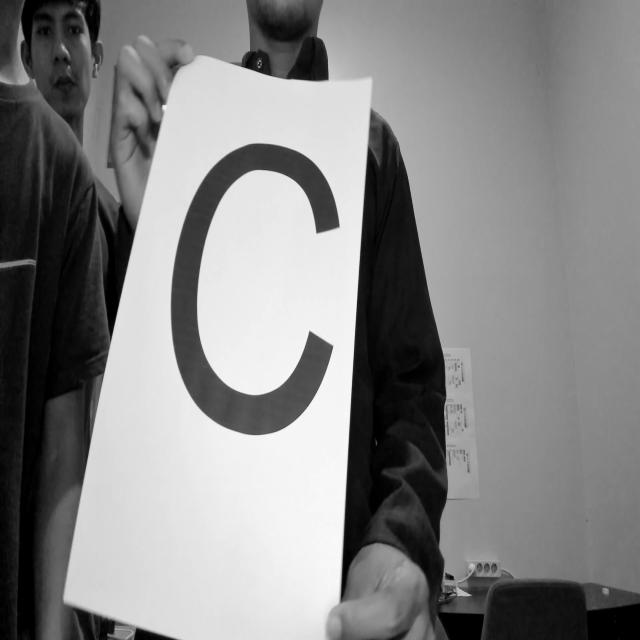c: (163, 126, 353, 460)
